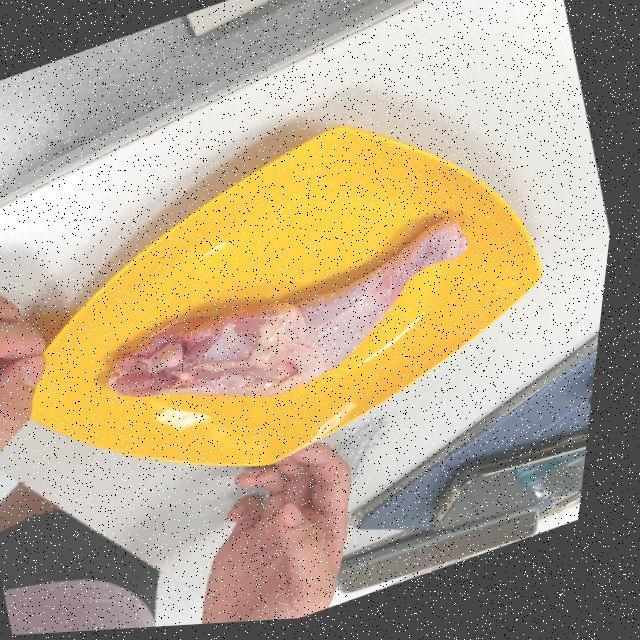quater: (116, 222, 471, 394)
